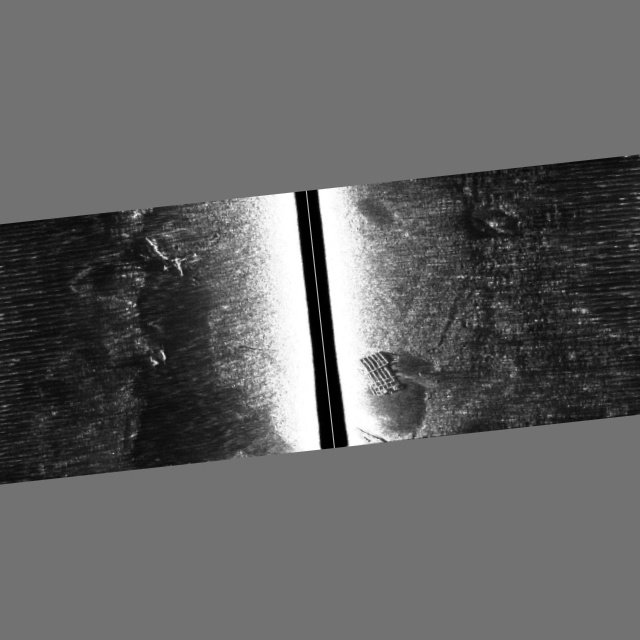Shipwreck: (135, 212, 407, 467)
